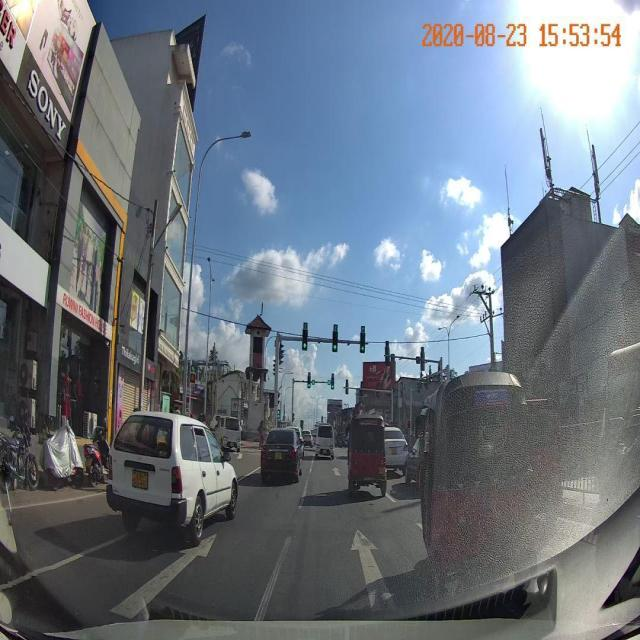Liniya 1: (18, 531, 130, 583), (254, 534, 293, 621), (299, 454, 316, 507), (236, 465, 262, 483)
Strelka vlevo: (233, 451, 243, 460)
Strelka vpered: (108, 532, 219, 620), (349, 528, 398, 613), (331, 466, 341, 477)
